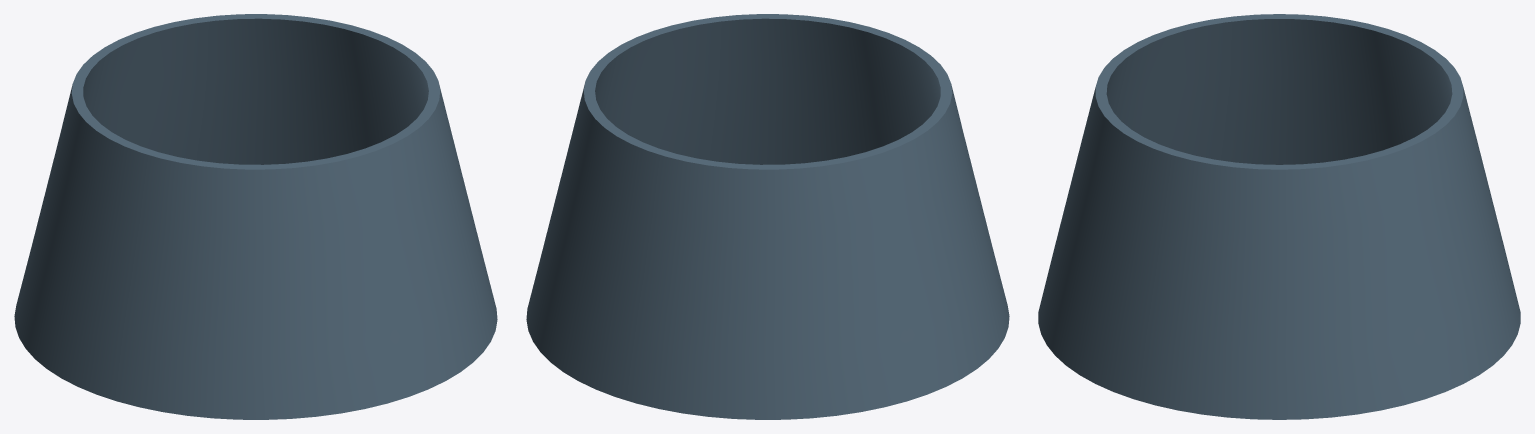
The model's file is perehod-426x12-325x10-L220.glb.
3 views of the same model, side by side, from view 1: azimuth 30°, elevation 25°; view 2: azimuth 150°, elevation 25°; view 3: azimuth 270°, elevation 25° (orthographic).
Parts seen in each view (by area): view 1: Open CASCADE STEP translator 7.9 71; view 2: Open CASCADE STEP translator 7.9 71; view 3: Open CASCADE STEP translator 7.9 71.
Boxes of the visible parts, x1,y1,x2,y2 form: Open CASCADE STEP translator 7.9 71: (14, 14, 497, 419); Open CASCADE STEP translator 7.9 71: (526, 14, 1009, 419); Open CASCADE STEP translator 7.9 71: (1038, 14, 1520, 419).
Size of the model in its own units: 426 by 220 by 425.
